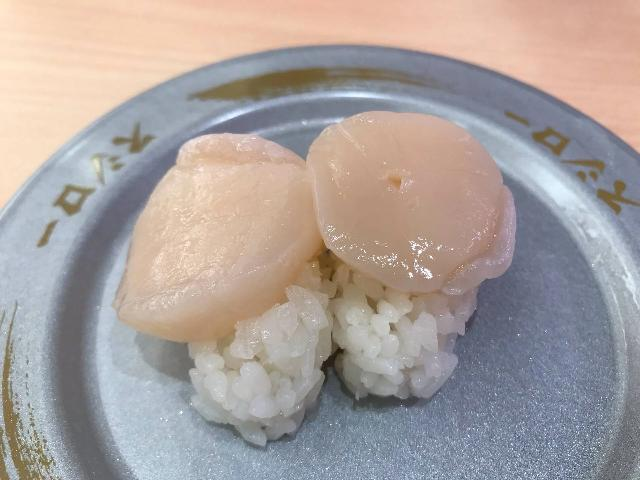janwhite: (13, 64, 638, 480)
